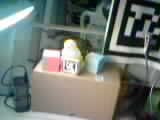duck: (57, 36, 82, 64)
